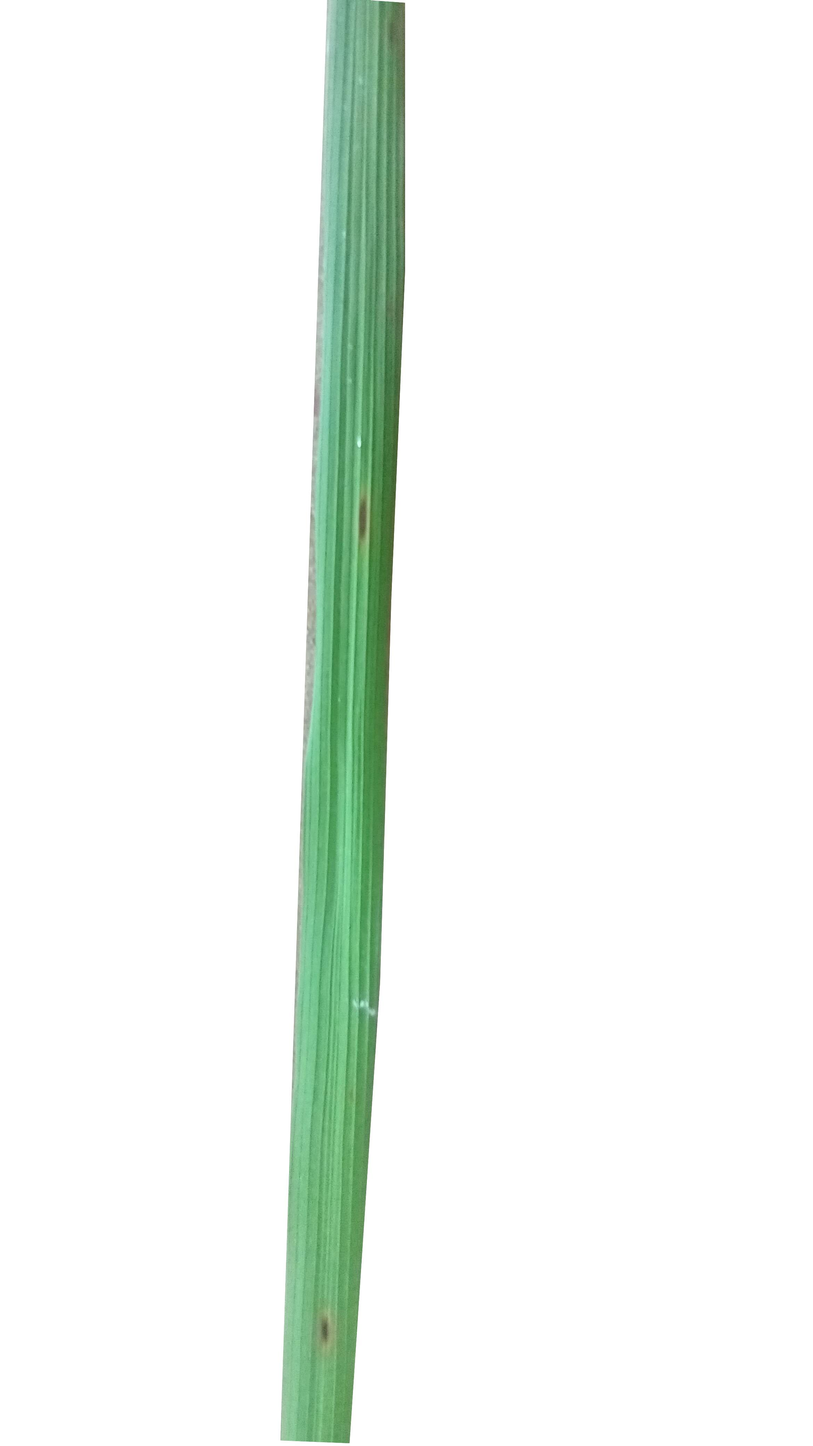Brown spot: (340, 494, 389, 560)
